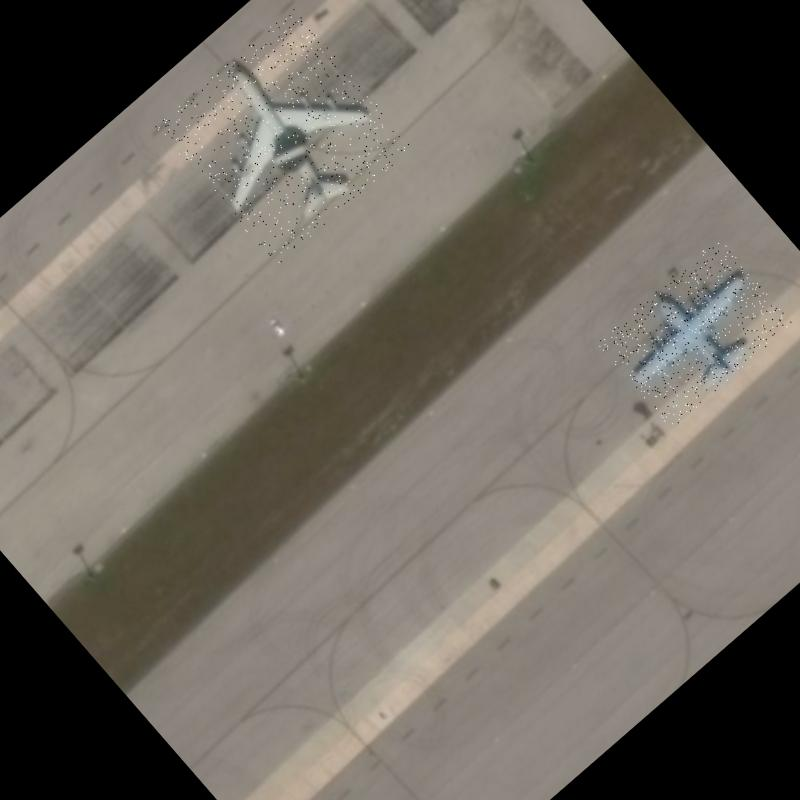A2: (596, 236, 794, 429)
A7: (156, 7, 414, 266)
